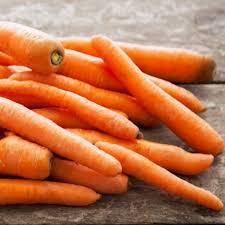Organic: (3, 3, 225, 219)
